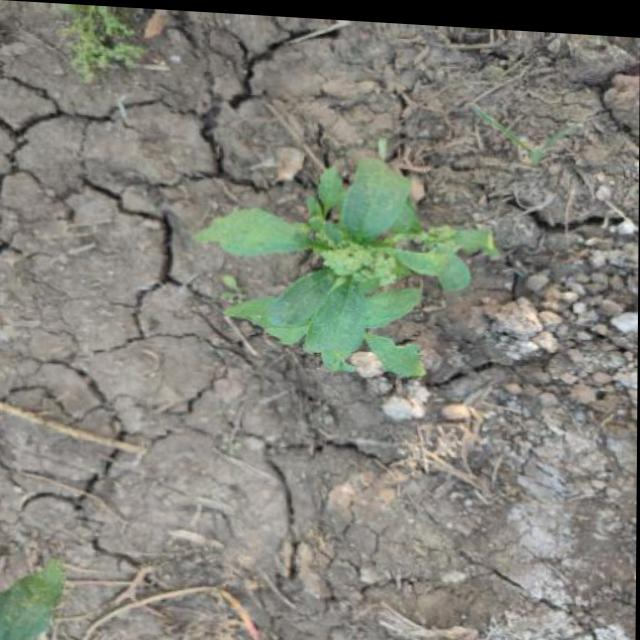weed: (194, 140, 494, 377), (45, 3, 176, 82), (0, 550, 84, 640)
